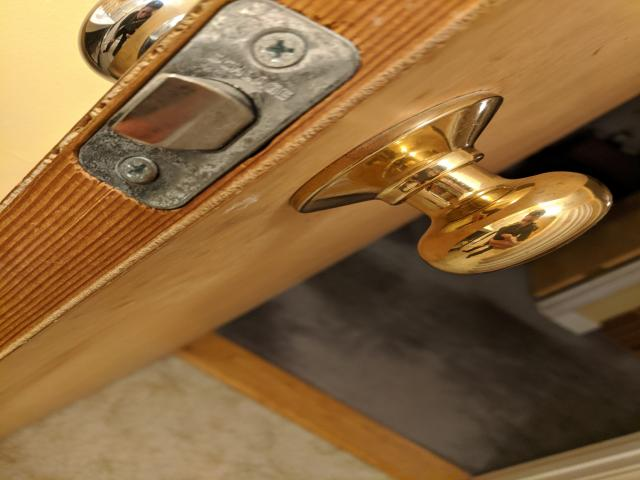CRS: (252, 31, 310, 70), (118, 155, 160, 185)
